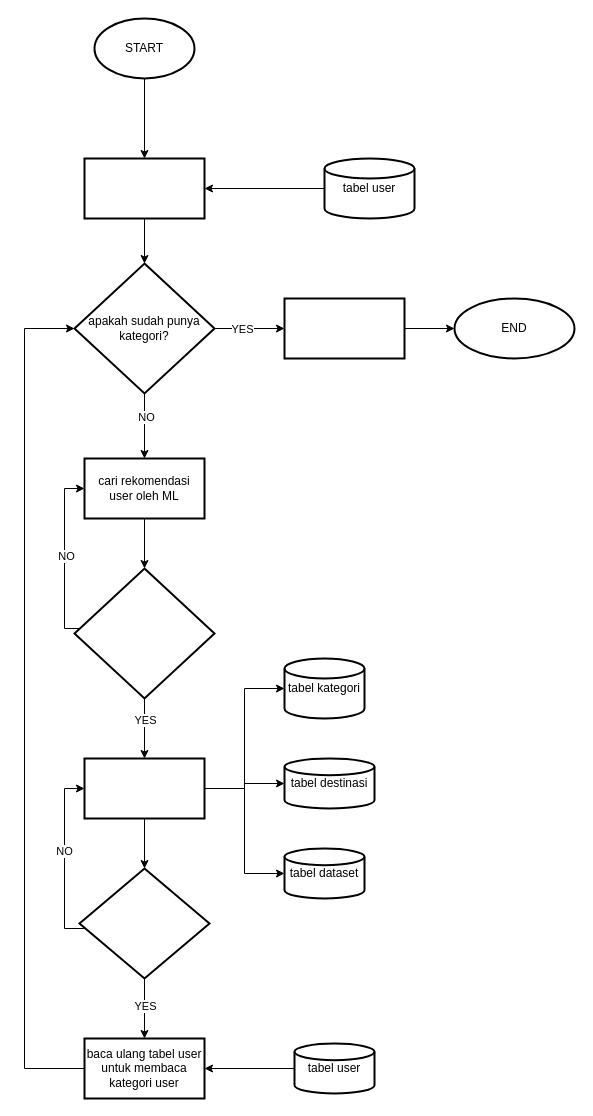
This 593x1116 diagram has some shape labels left out. The centre of each missing label's shape, as x and y in pixels:
apakah sudah dimasukan kedalam tabel?: point 144,923
apakah sudah ditemukan kategori destinasi wisata: point 144,633
masukan data kategori, destinasi dan hasil tweet bersih kedalam tabel: point 144,788
membaca tabel user: point 144,188
tampilkan kategori sebagai rekomendasi: point 344,328
